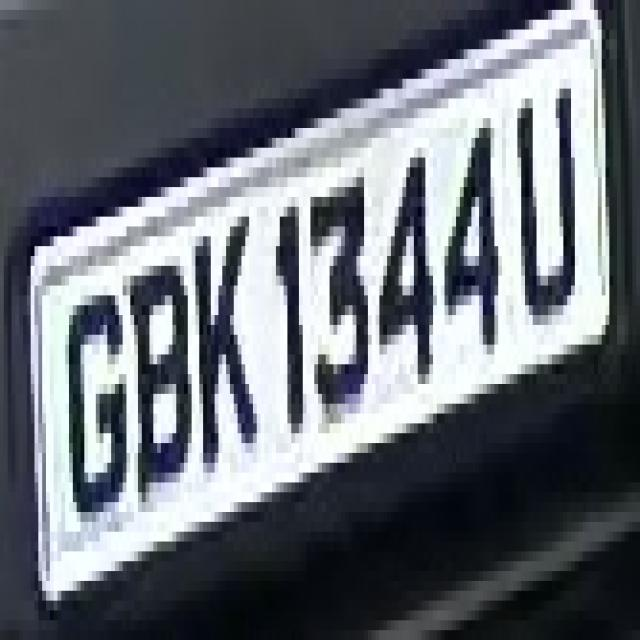1: (268, 177, 318, 473)
3: (306, 158, 376, 443)
4: (433, 79, 514, 374), (364, 138, 452, 404)
B: (115, 236, 195, 502)
G: (57, 276, 142, 532)
K: (176, 207, 249, 463)
U: (506, 59, 590, 335)
